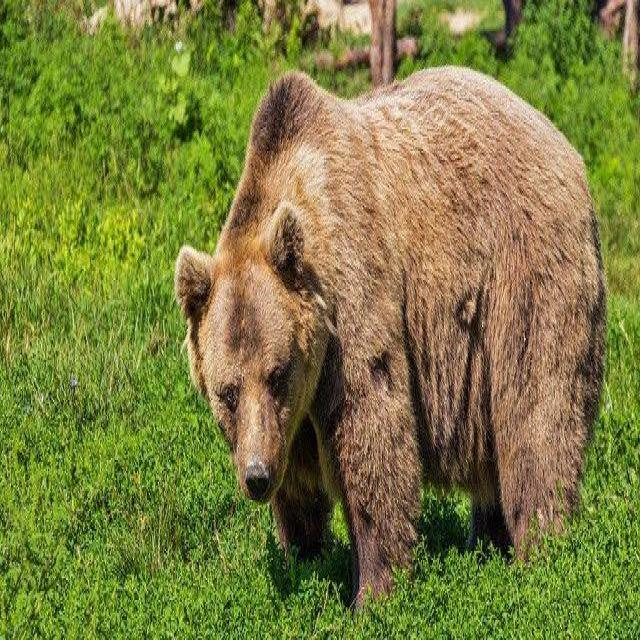Bear: (173, 67, 609, 611)
